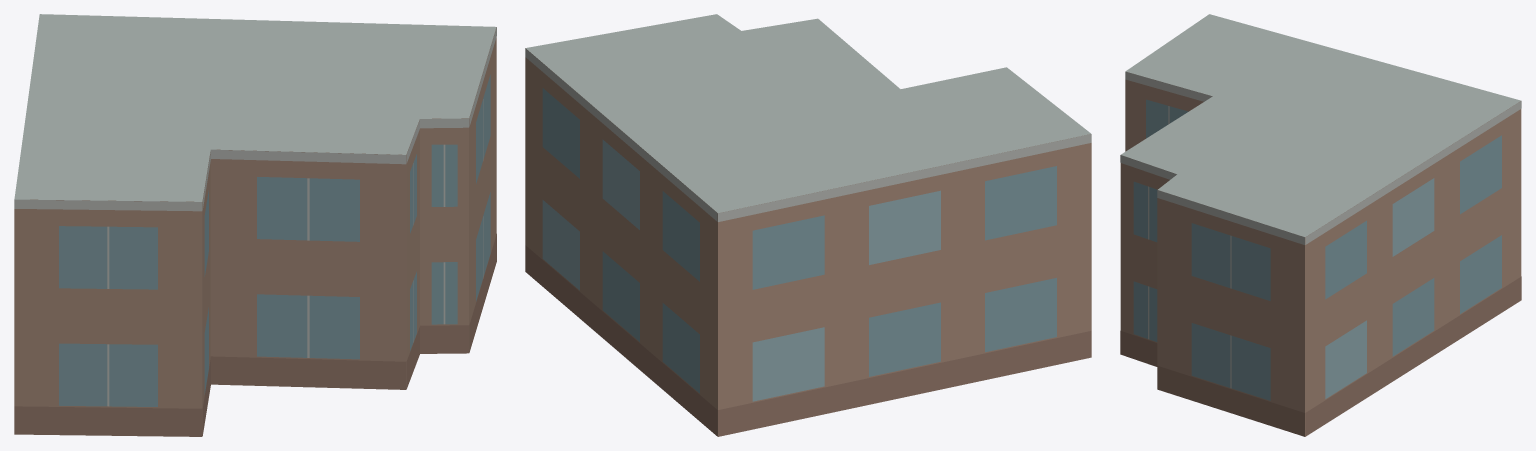
File: survey-upis-32635983.glb
The picture shows the model from 3 angles, left to right: view 1: azimuth 30°, elevation 25°; view 2: azimuth 150°, elevation 25°; view 3: azimuth 270°, elevation 25°; orthographic projection. The views are drawn at different scales.
Parts seen in each view (by area): view 1: survey-upis-32635983.tmp; view 2: survey-upis-32635983.tmp; view 3: survey-upis-32635983.tmp.
Part boxes in pixels (x1,y1,x2,y2): survey-upis-32635983.tmp: (14, 14, 496, 436); survey-upis-32635983.tmp: (525, 14, 1091, 436); survey-upis-32635983.tmp: (1120, 14, 1521, 436).
Bounding box in the file's own units: 14.64 × 6.1 × 11.11.
